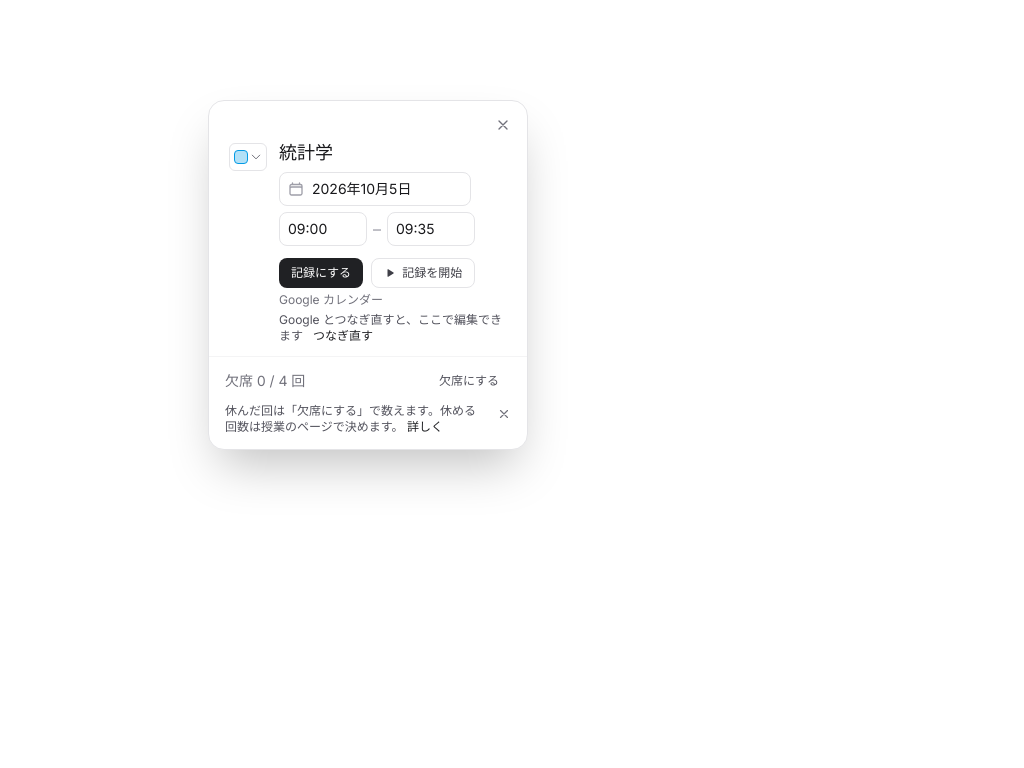
Scenario: 追加機能「学校」の学期と授業（#503・#622） › 学期の授業と同じ名前の Google カレンダーの予定のカードに数と「欠席にする」が出る。授業でない予定・オフなら出ない
Expected: the text "欠席 0 / 4 回" is shown, [225,371,305,391]
Click the button "欠席にする" at point(469, 381), box [427,367,511,395]
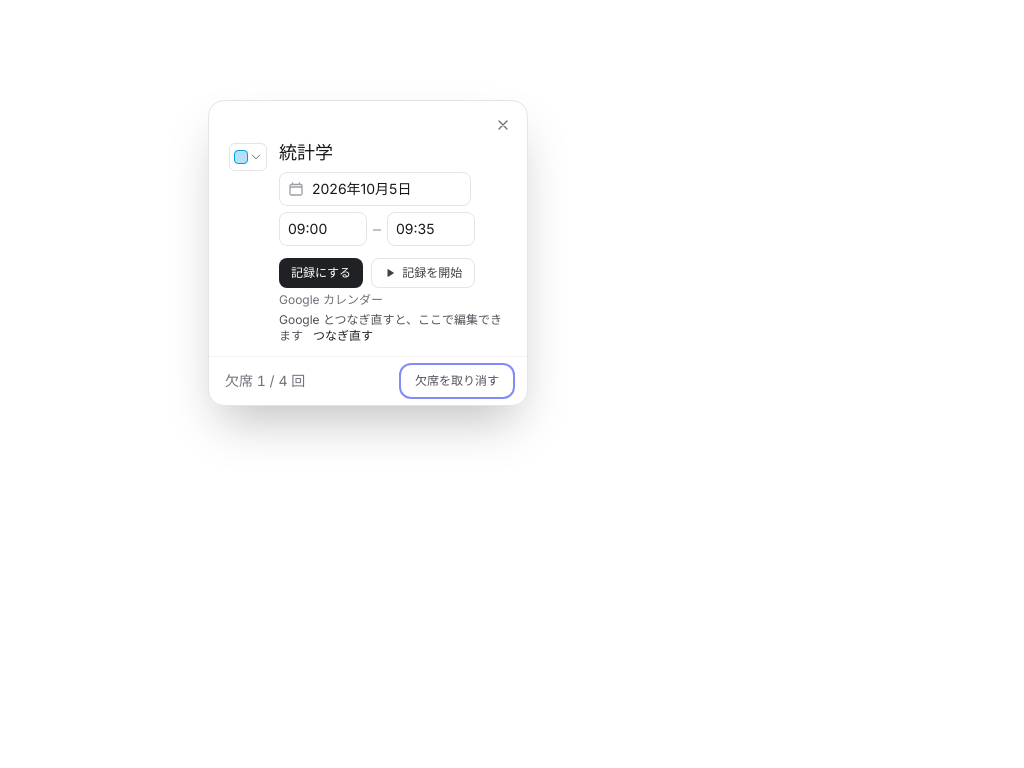
Now the text "欠席 1 / 4 回" is shown, box [225,371,305,391]
